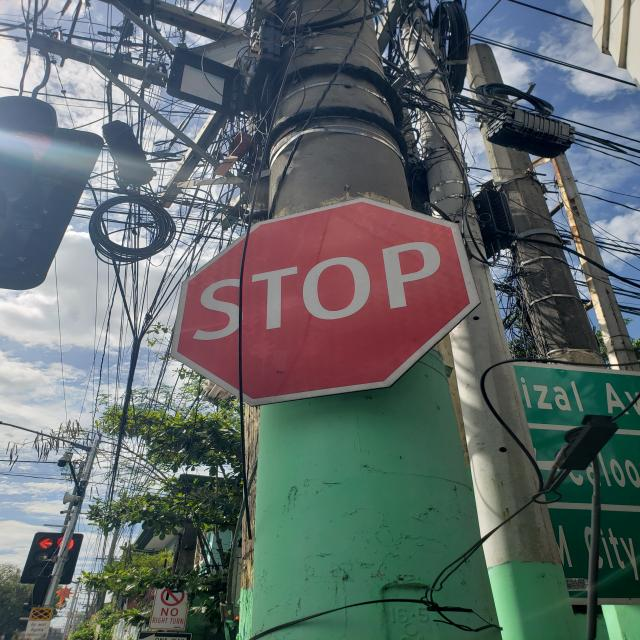stop-sign: (170, 197, 482, 408)
